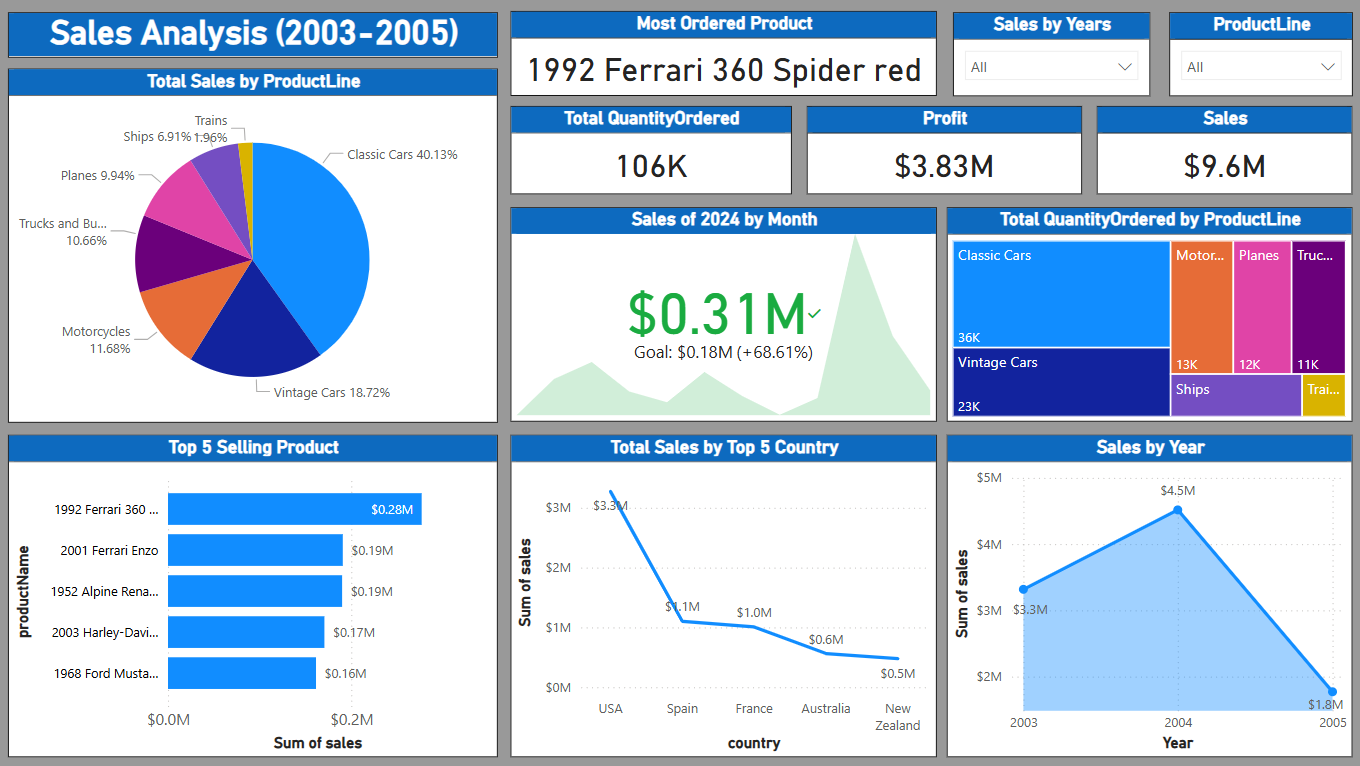

This screenshot's page, from the dashboard's own definition file:
{"tool":"powerbi","page":{"name":"Page 1","canvas":[1280,720],"ordinal":0},"visuals":[{"type":"card","title":"Most Ordered Product","fields":{"Values":["order details.MostOrderedItems"]},"box":[477.5,13.7,397.9,79.6],"z":0},{"type":"barChart","title":"Top 5 Selling Product","fields":{"Category":["products.productName"],"Y":["Sum(order details.sales)"]},"box":[9.6,408.9,456.9,300.5],"z":1000},{"type":"pieChart","title":"Total Sales by ProductLine","fields":{"Category":["productlines.productLine"],"Y":["Sum(order details.sales)"]},"box":[9.6,67.2,456.9,330.7],"z":2000},{"type":"lineChart","title":"Sales by Year","fields":{"Y":["Sum(order details.sales)"],"Category":["orders.orderDate.Variation.Date Hierarchy.Year","orders.orderDate.Variation.Date Hierarchy.Quarter","orders.orderDate.Variation.Date Hierarchy.Month","orders.orderDate.Variation.Date Hierarchy.Day"]},"box":[885.1,408.9,378.7,300.5],"z":3000},{"type":"card","title":"Profit","fields":{"Values":["order details.total_profit"]},"box":[754.7,102.9,256.6,82.3],"z":4000},{"type":"kpi","title":"Sales of 2024 by Month","fields":{"Goal":["order details.sales_2003"],"TrendLine":["orders.Month Name"],"Indicator":["order details.sales_2004"]},"box":[477.5,197.6,397.9,200.3],"z":5000},{"type":"treemap","title":"Total QuantityOrdered by ProductLine","fields":{"Group":["productlines.productLine"],"Values":["Sum(order details.quantityOrdered)"]},"box":[885.1,197.6,378.7,200.3],"z":6000},{"type":"slicer","title":"Sales by Years","fields":{"Values":["orders.year_name"]},"box":[890.6,15.1,183.9,78.2],"z":7000},{"type":"slicer","title":"ProductLine","fields":{"Values":["products.productLine"]},"box":[1092.3,15.1,171.5,78.2],"z":8000},{"type":"card","title":"Sales","fields":{"Values":["Sum(order details.sales)"]},"box":[1025,102.9,238.8,82.3],"z":9000},{"type":"textbox","title":"Sales Analysis (2003-2005)","box":[9.6,15.1,456.9,42.5],"z":10000},{"type":"lineChart","title":"Total Sales by Top 5 Country","fields":{"Category":["customers.country"],"Y":["Sum(order details.sales)"]},"box":[477.5,408.9,397.9,300.5],"z":11000},{"type":"card","title":"Total QuantityOrdered","fields":{"Values":["Sum(order details.quantityOrdered)"]},"box":[477.5,102.9,262.1,82.3],"z":12000}]}

Visuals, with their boxes in screenshot pixels (x1, y1, x2, y2), scaled from the page's 1280x720 canvas onto the 1360x766 screenshot:
"Most Ordered Product" card: {"left": 507, "top": 15, "right": 930, "bottom": 99}
"Top 5 Selling Product" barChart: {"left": 10, "top": 435, "right": 496, "bottom": 755}
"Total Sales by ProductLine" pieChart: {"left": 10, "top": 71, "right": 496, "bottom": 423}
"Sales by Year" lineChart: {"left": 940, "top": 435, "right": 1343, "bottom": 755}
"Profit" card: {"left": 802, "top": 109, "right": 1075, "bottom": 197}
"Sales of 2024 by Month" kpi: {"left": 507, "top": 210, "right": 930, "bottom": 423}
"Total QuantityOrdered by ProductLine" treemap: {"left": 940, "top": 210, "right": 1343, "bottom": 423}
"Sales by Years" slicer: {"left": 946, "top": 16, "right": 1142, "bottom": 99}
"ProductLine" slicer: {"left": 1161, "top": 16, "right": 1343, "bottom": 99}
"Sales" card: {"left": 1089, "top": 109, "right": 1343, "bottom": 197}
"Sales Analysis (2003-2005)" textbox: {"left": 10, "top": 16, "right": 496, "bottom": 61}
"Total Sales by Top 5 Country" lineChart: {"left": 507, "top": 435, "right": 930, "bottom": 755}
"Total QuantityOrdered" card: {"left": 507, "top": 109, "right": 786, "bottom": 197}
